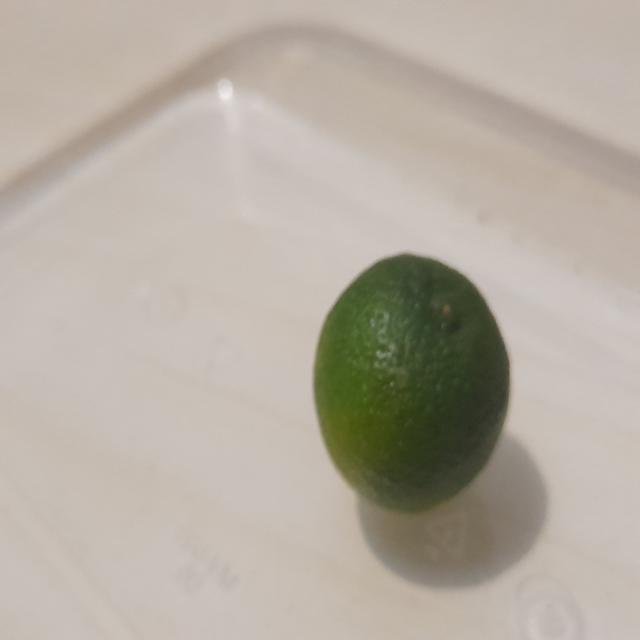heathy: (310, 250, 519, 526)
